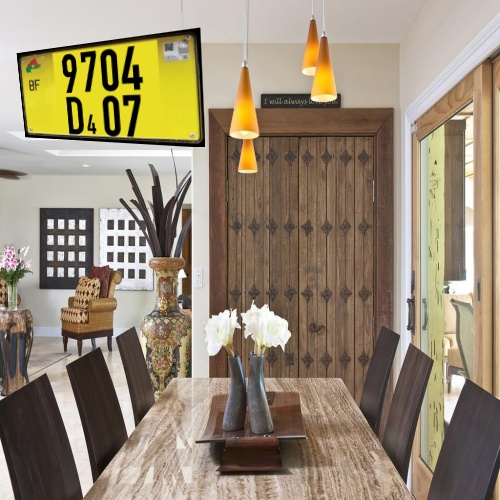plate: (12, 19, 221, 152)
